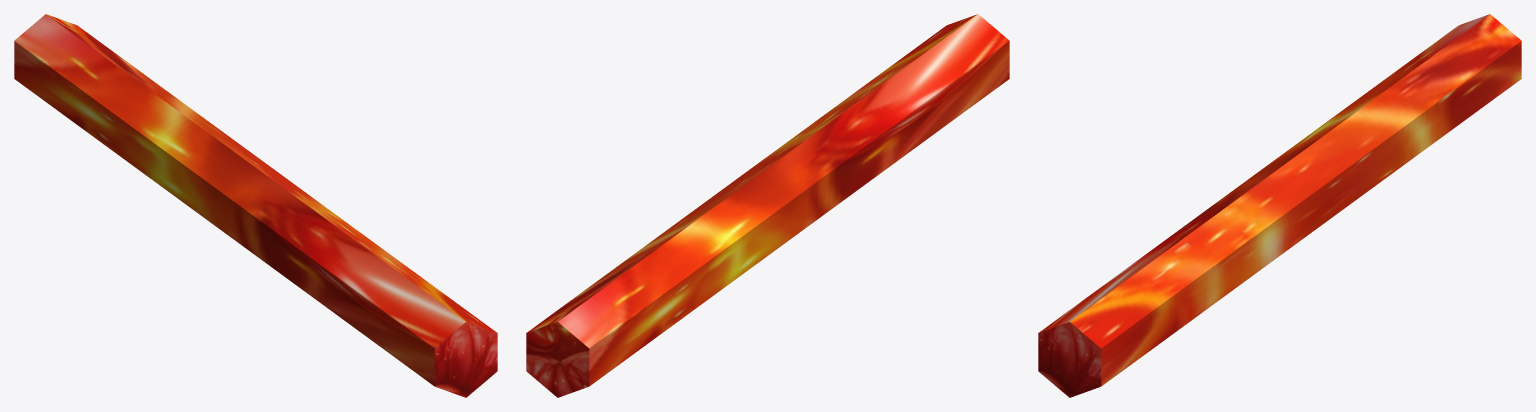
The model's file is Prop_VeinTube.fbx.
3 views of the same model, side by side, from view 1: azimuth 30°, elevation 25°; view 2: azimuth 150°, elevation 25°; view 3: azimuth 330°, elevation 25° (orthographic).
Parts seen in each view (by area): view 1: Prop_VeinTube; view 2: Prop_VeinTube; view 3: Prop_VeinTube.
Boxes of the visible parts, x1,y1,x2,y2 form: Prop_VeinTube: (14,14,497,397); Prop_VeinTube: (526,14,1009,397); Prop_VeinTube: (1038,14,1521,397).
Bounding box in the file's own units: 0.2598 × 0.3 × 3.
1 material, 1 textured.
